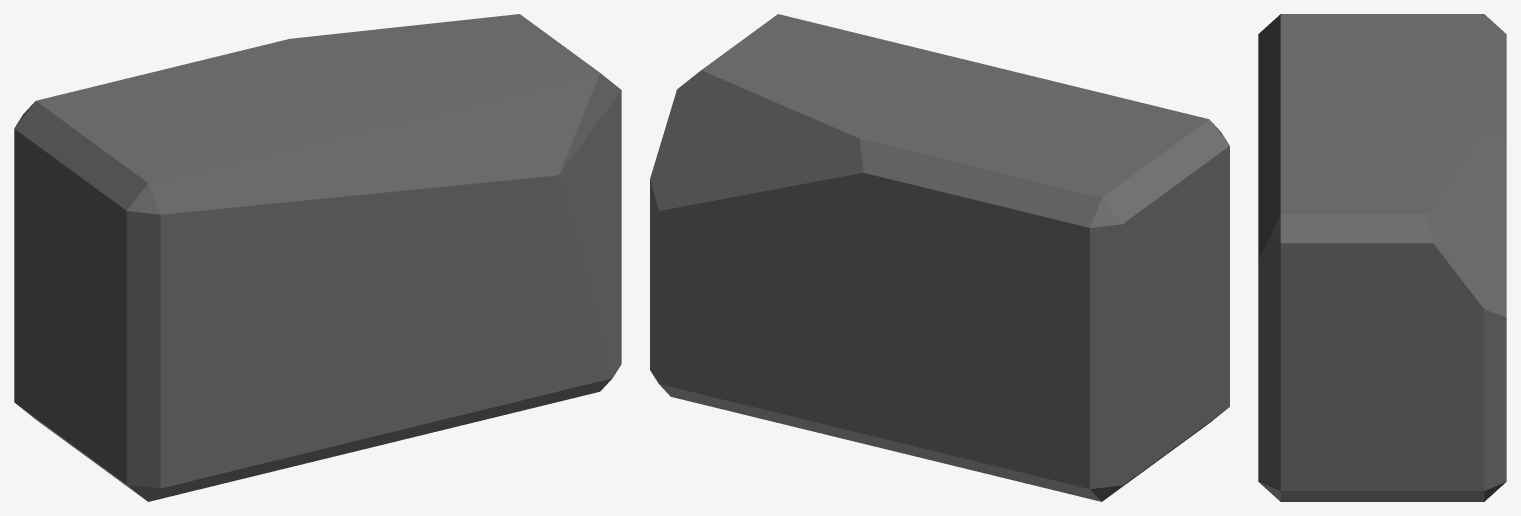
Rendered from Brick003.gltf.
3 views of the same model, side by side, from view 1: azimuth 30°, elevation 25°; view 2: azimuth 150°, elevation 25°; view 3: azimuth 270°, elevation 25° (orthographic). The views are drawn at different scales.
Visible parts, largest first — view 1: WallBrick.003; view 2: WallBrick.003; view 3: WallBrick.003.
Boxes of the visible parts, bbox=[...] form: WallBrick.003: bbox=[14, 14, 621, 501]; WallBrick.003: bbox=[650, 14, 1229, 501]; WallBrick.003: bbox=[1258, 14, 1506, 501].
Bounding box in the file's own units: 0.52 × 0.32 × 0.25.
Materials: 1 (1 with a texture image).
